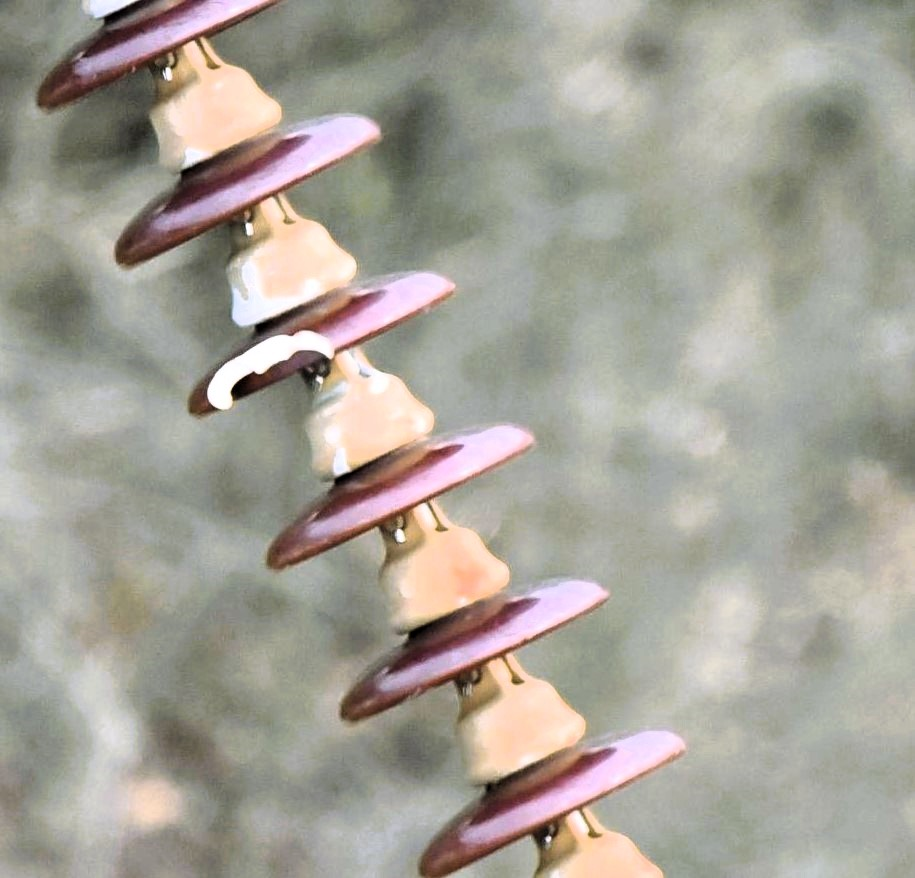insulator breakage: (183, 262, 456, 421)
